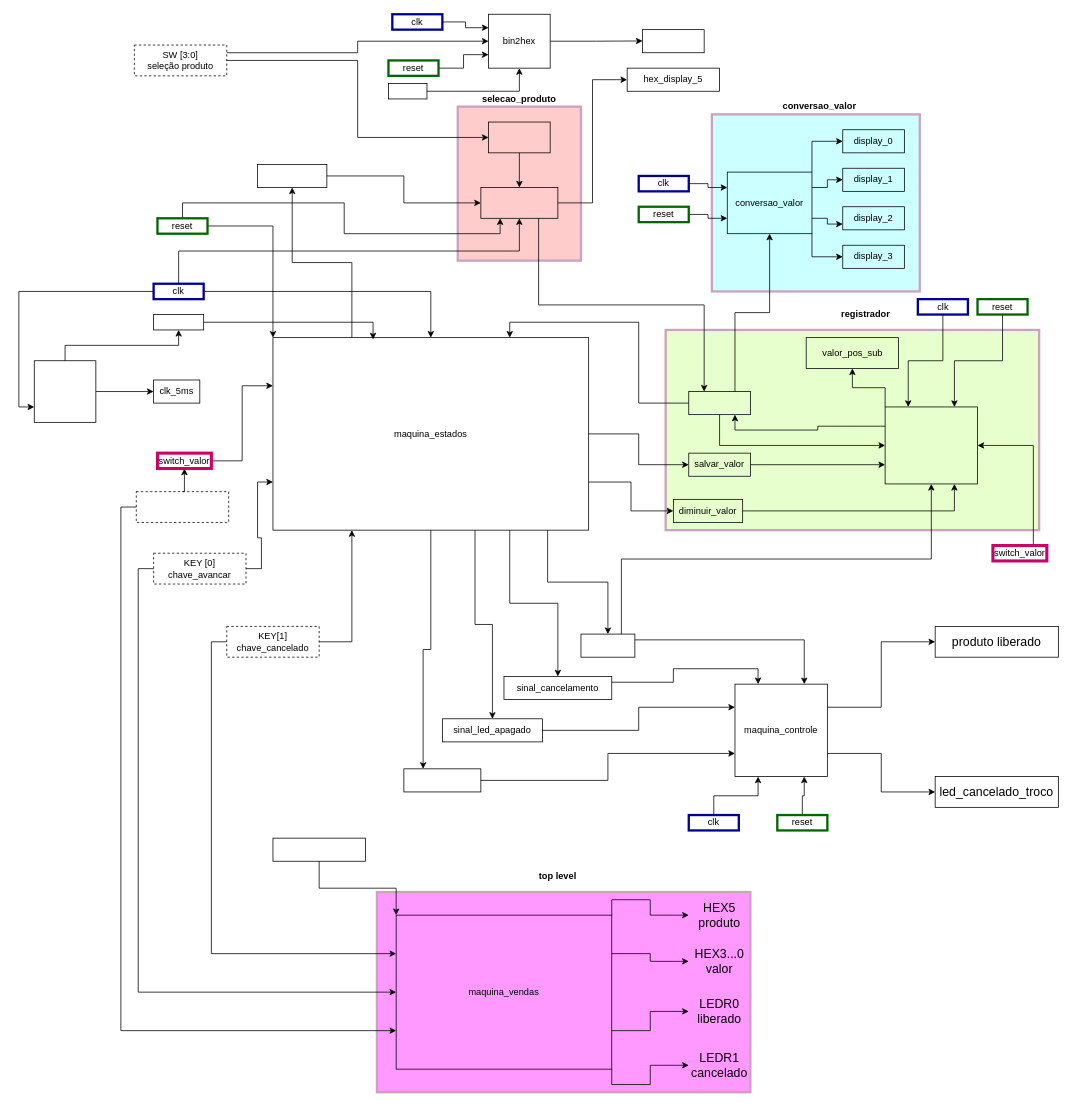
The diagram is 1072 pixels wide and 1106 high, and some of its shapes have lost their labels. Here are the shapes that lost their labels. From the top down, the centre of each, then its label:
[673,41]: hex
[407,91]: lock
[519,137]: Produto
[292,175]: travar_selecao
[519,202]: Tabela selecao_produto
[178,322]: clk_1s
[64,391]: clock
[719,403]: valor_produto
[931,445]: caixa_registradora
[182,506]: SW [9:4] seleção nota/moeda
[607,645]: sinal_troco
[442,780]: sinal_liberacao
[318,849]: CLOCK_50
